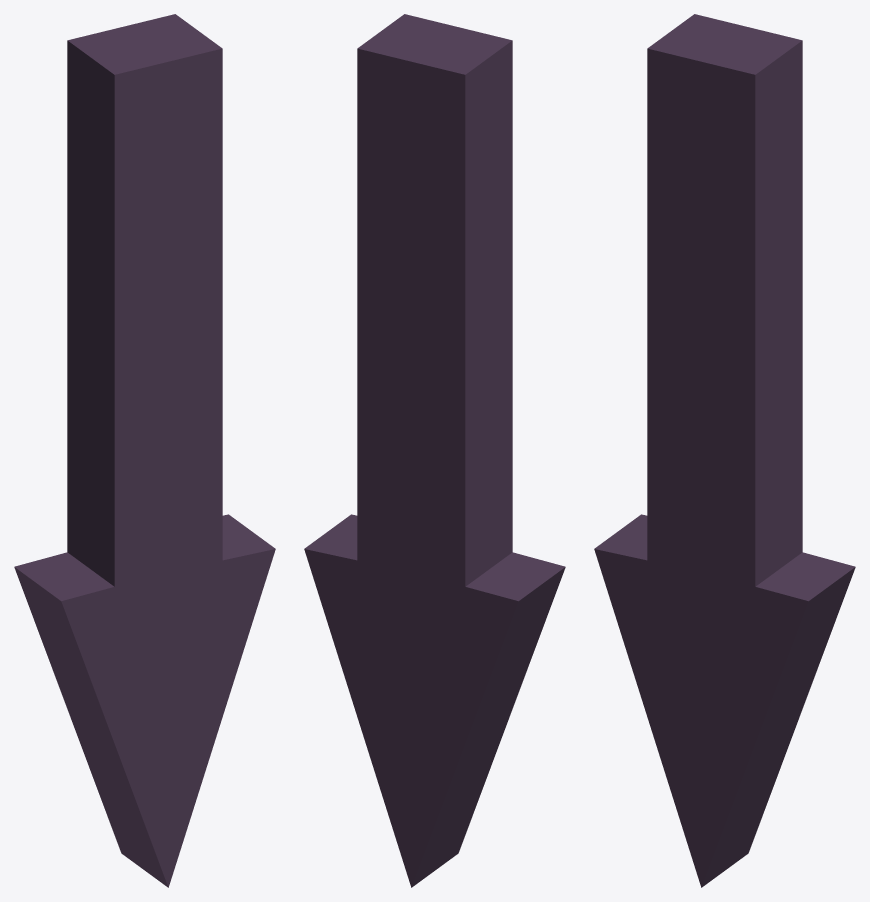
Rendered from direction.glb.
The picture shows the model from 3 angles, left to right: view 1: azimuth 30°, elevation 25°; view 2: azimuth 150°, elevation 25°; view 3: azimuth 330°, elevation 25°; orthographic projection.
Parts seen in each view (by area): view 1: direction; view 2: direction; view 3: direction.
Part boxes in pixels (x1,y1,x2,y2): direction: (14, 14, 275, 887); direction: (304, 14, 565, 887); direction: (594, 14, 855, 887).
Bounding box in the file's own units: 0.3292 × 1.21 × 0.1253.
